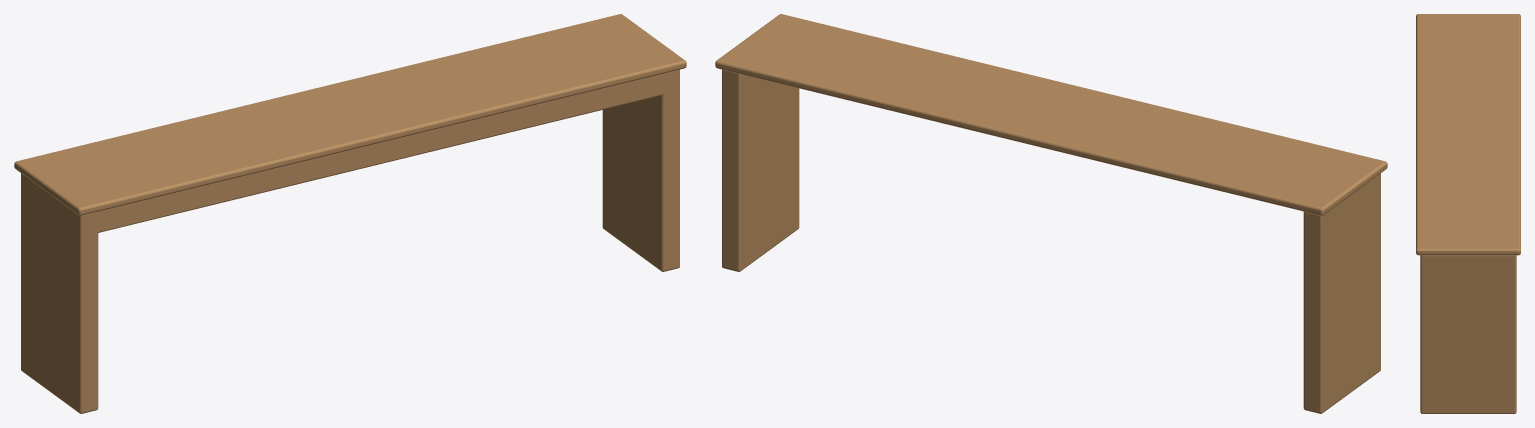
The model's file is windowBar-3.glb.
The picture shows the model from 3 angles, left to right: view 1: azimuth 30°, elevation 25°; view 2: azimuth 150°, elevation 25°; view 3: azimuth 270°, elevation 25°; orthographic projection. The views are drawn at different scales.
Visible parts, largest first — view 1: windowBar:3:archviz; view 2: windowBar:3:archviz; view 3: windowBar:3:archviz.
Part boxes in pixels (x1=…): windowBar:3:archviz: x1=14, y1=14, x2=686, y2=413; windowBar:3:archviz: x1=715, y1=14, x2=1387, y2=413; windowBar:3:archviz: x1=1416, y1=14, x2=1520, y2=413.
Bounding box in the file's own units: 3.2 × 1.05 × 0.6.
